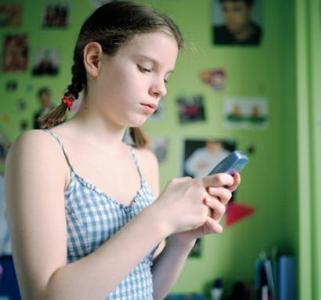person: (5, 3, 242, 300)
